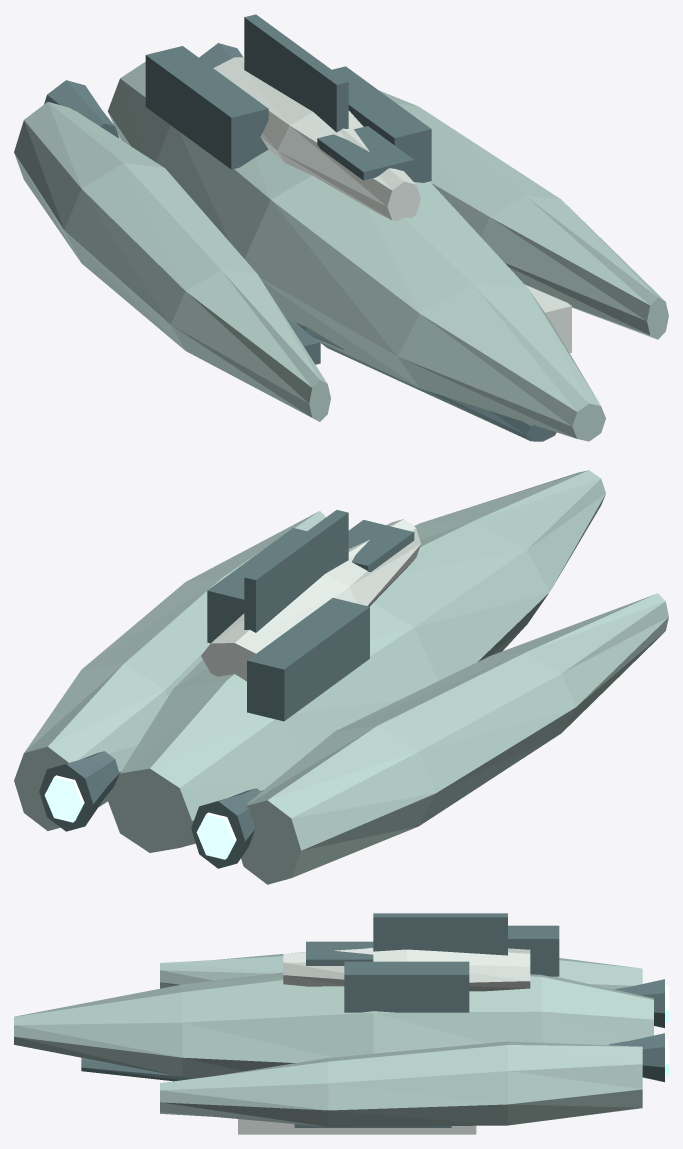
The picture shows the model from 3 angles, top to bottom: view 1: azimuth 30°, elevation 25°; view 2: azimuth 150°, elevation 25°; view 3: azimuth 270°, elevation 25°; orthographic projection. The views are drawn at different scales.
Bounding box in the file's own units: 6.54 × 3.75 × 12.57.
